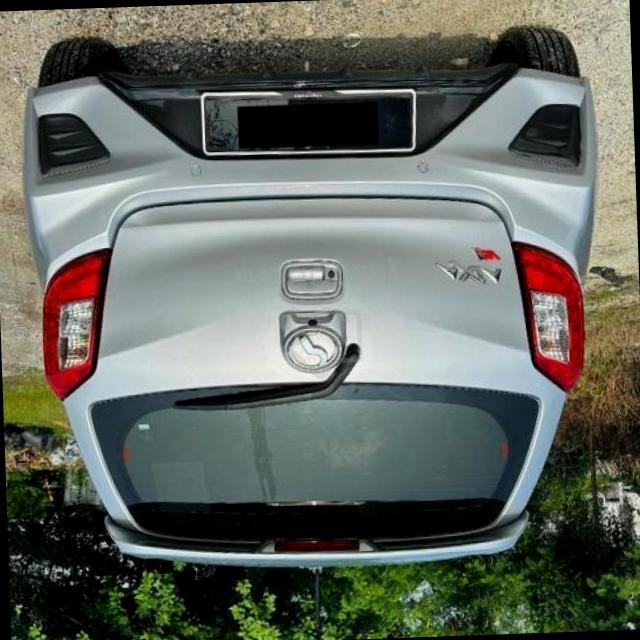PeroduaAxia: (16, 19, 613, 580)
